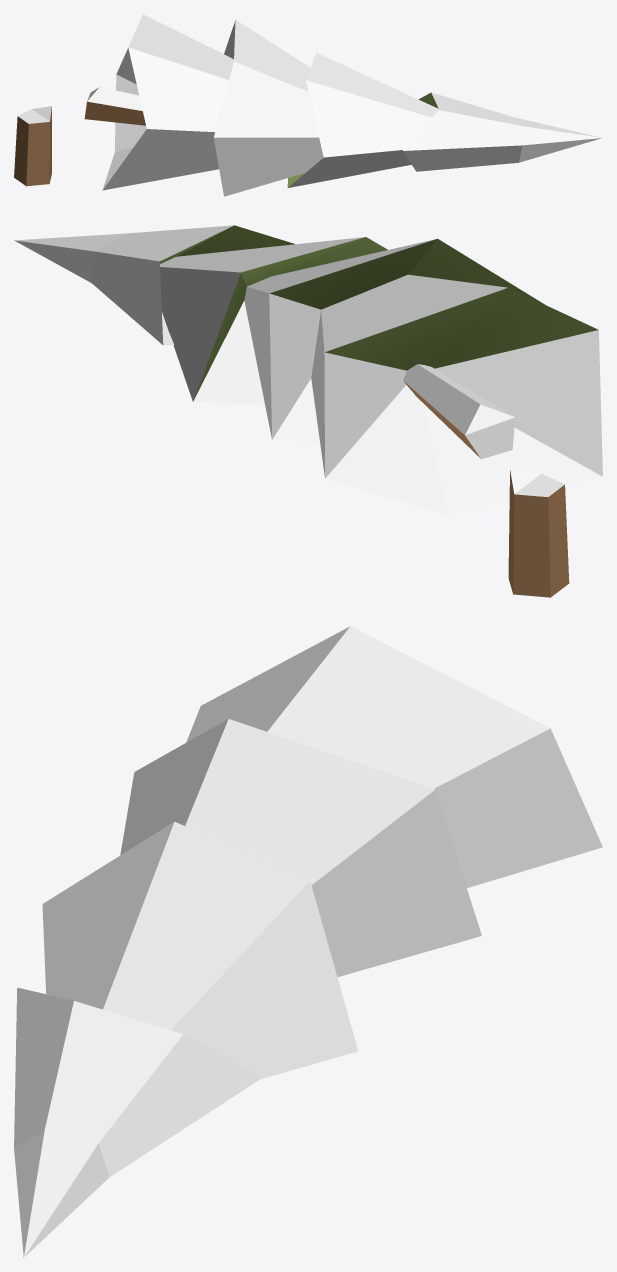
Rendered from Pine_Tree_crk_m_Snow_BT_03.fbx.
The picture shows the model from 3 angles, top to bottom: view 1: azimuth 30°, elevation 25°; view 2: azimuth 150°, elevation 25°; view 3: azimuth 270°, elevation 25°; orthographic projection. The views are drawn at different scales.
Parts seen in each view (by area): view 1: Pine_Tree_crk_m_Snow_BT_03; view 2: Pine_Tree_crk_m_Snow_BT_03; view 3: Pine_Tree_crk_m_Snow_BT_03.
Part boxes in pixels (x1,y1,x2,y2): Pine_Tree_crk_m_Snow_BT_03: (14, 14, 601, 196); Pine_Tree_crk_m_Snow_BT_03: (14, 225, 602, 597); Pine_Tree_crk_m_Snow_BT_03: (14, 626, 602, 1257).
Size of the model in its own units: 522 by 157 by 290.
